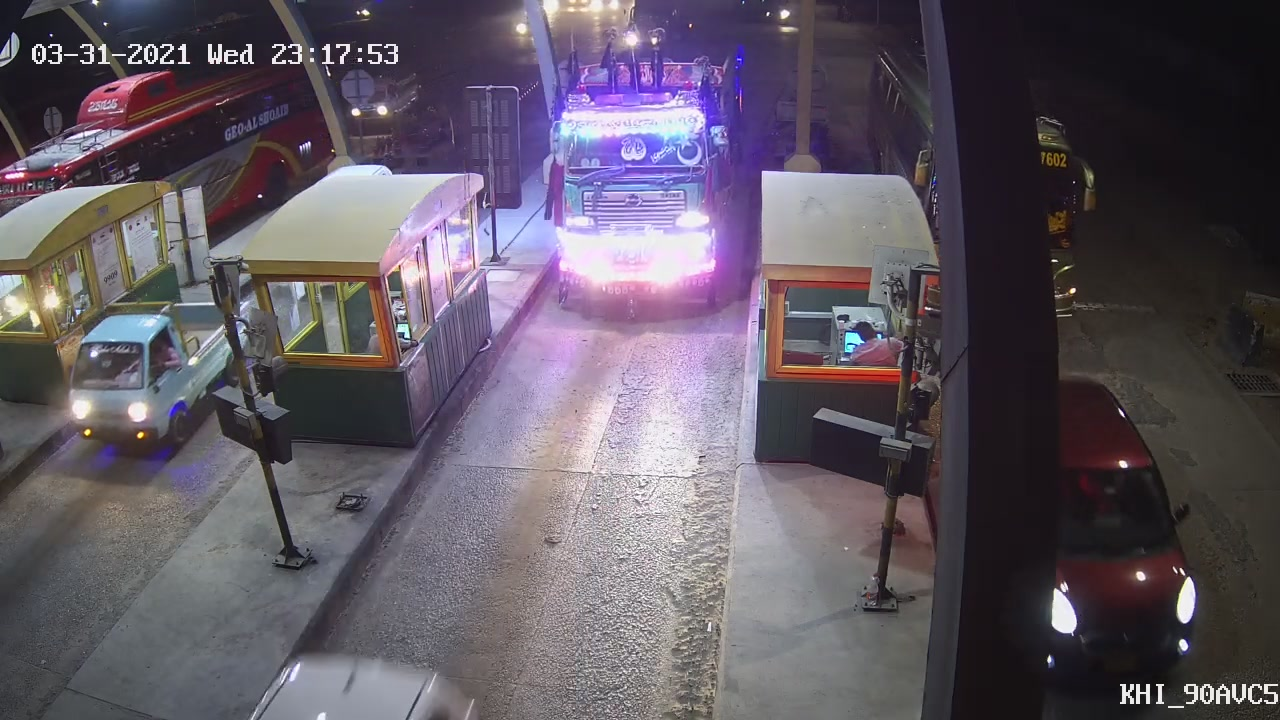F5: (530, 48, 737, 325)
